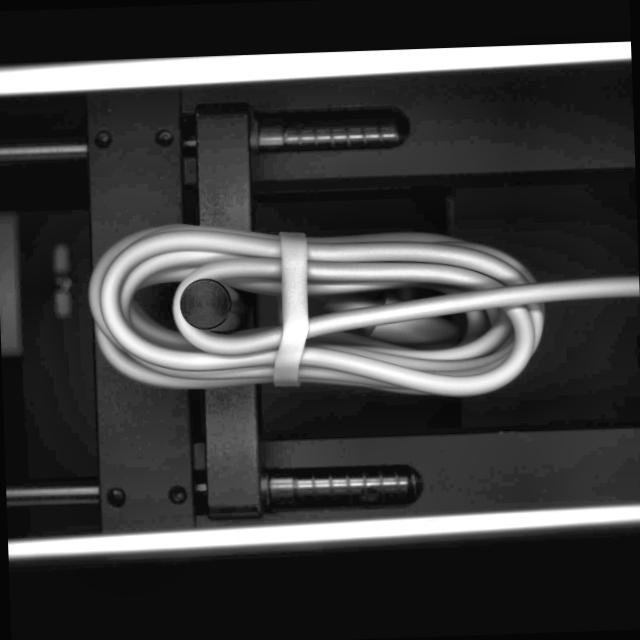Cable: (79, 201, 640, 413)
